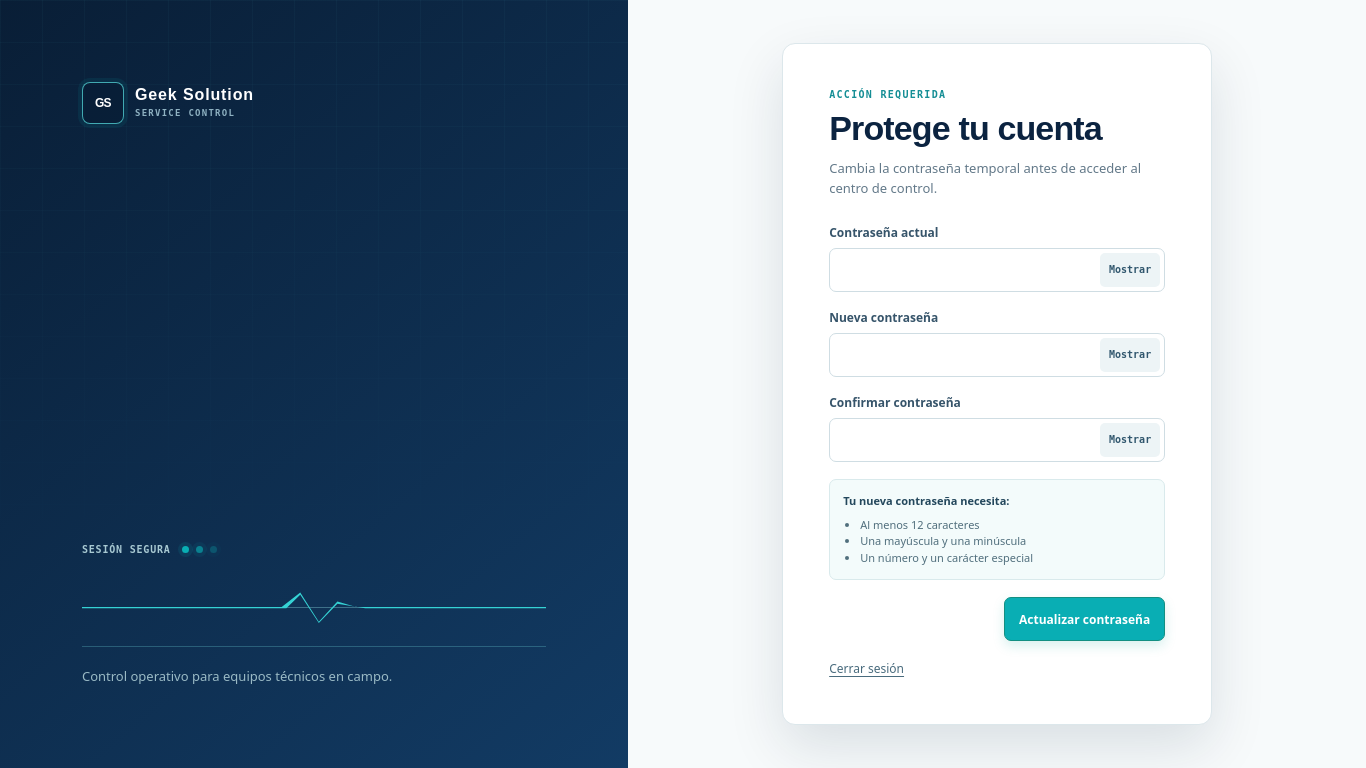
Scenario: páginas de autenticación › traduce PASSWORD_TOO_SHORT al mensaje de política correspondiente
This screenshot has width=1366, height=768.
Type "Actual123!xxx" into the password field labelled "Contraseña actual".
click(997, 270); type("Actual123!xxx")  # box [829,248,1165,292]
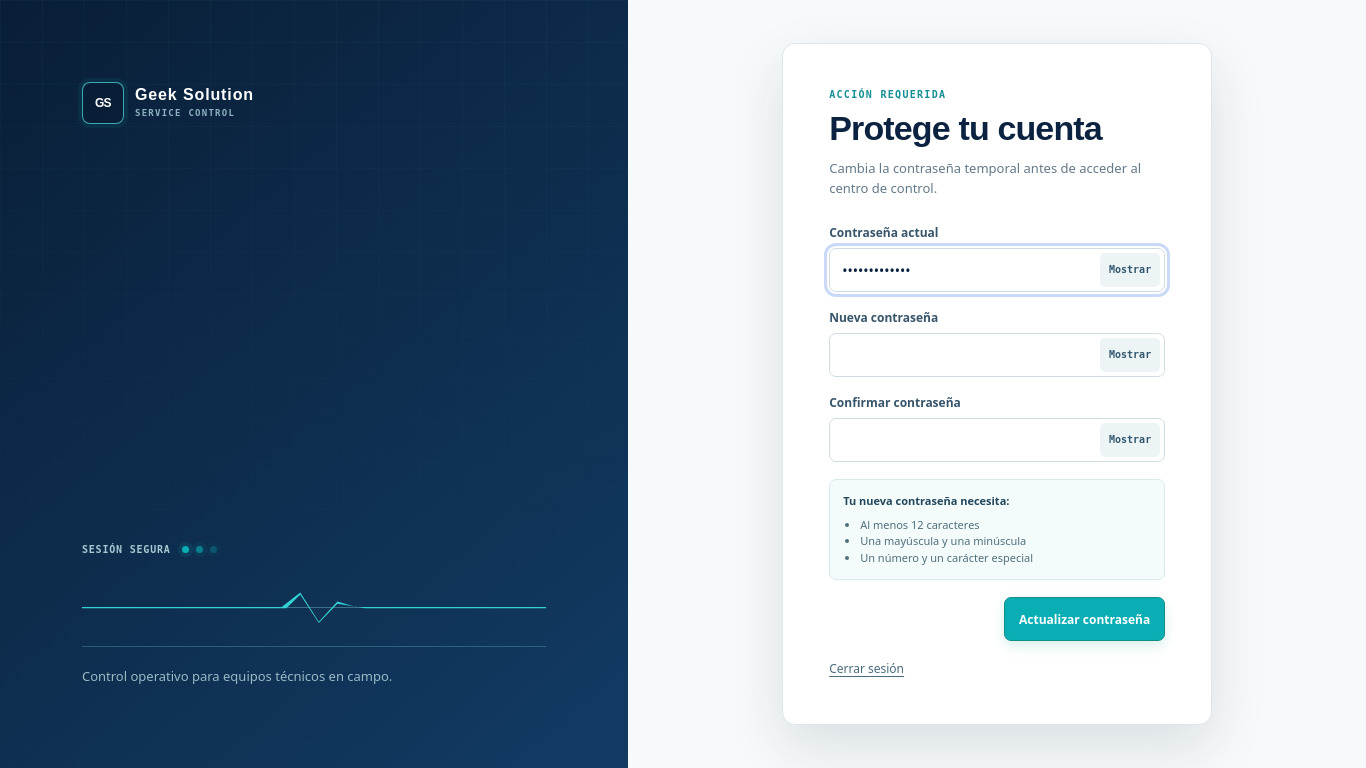
Type "Nueva123!xxxx" into the password field labelled "Nueva contraseña".
click(997, 355); type("Nueva123!xxxx")  # box [829,333,1165,377]
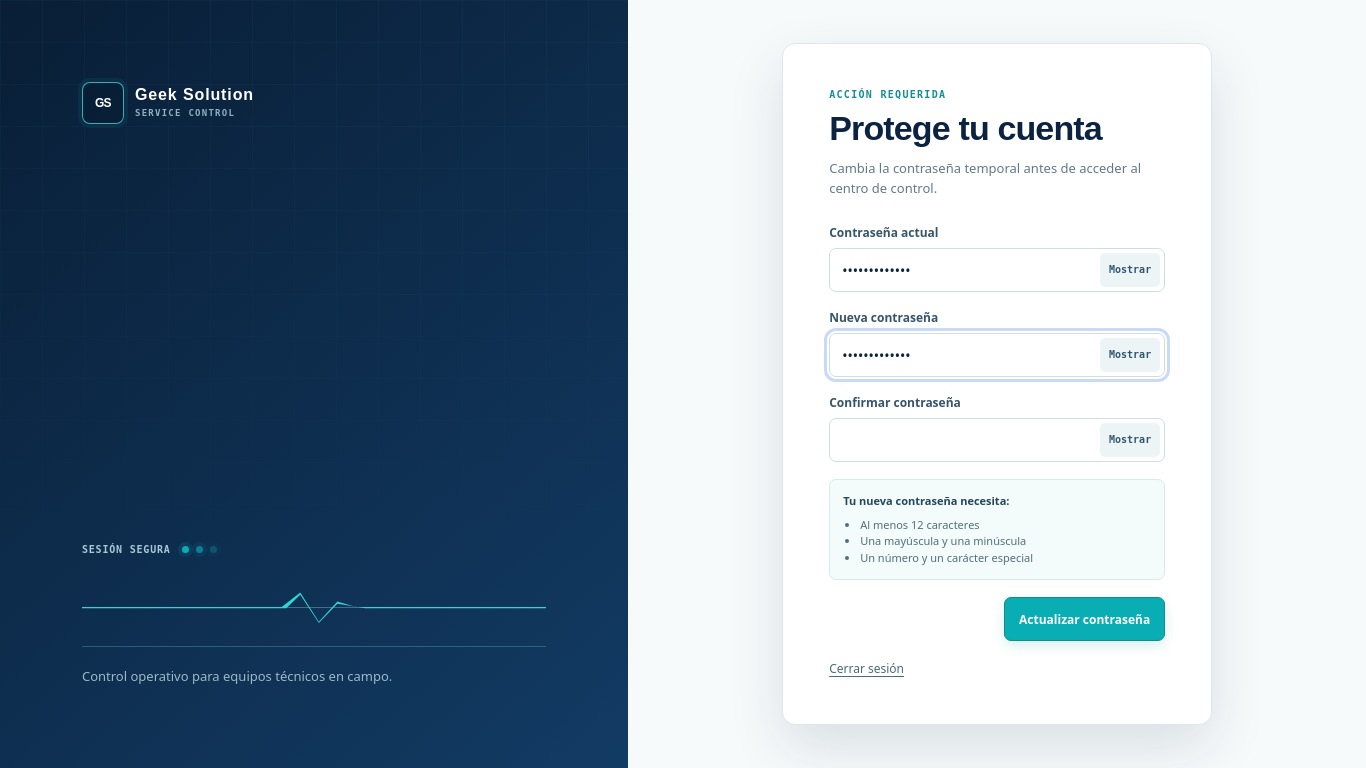
Type "Nueva123!xxxx" into the password field labelled "Confirmar contraseña".
click(997, 440); type("Nueva123!xxxx")  # box [829,418,1165,462]
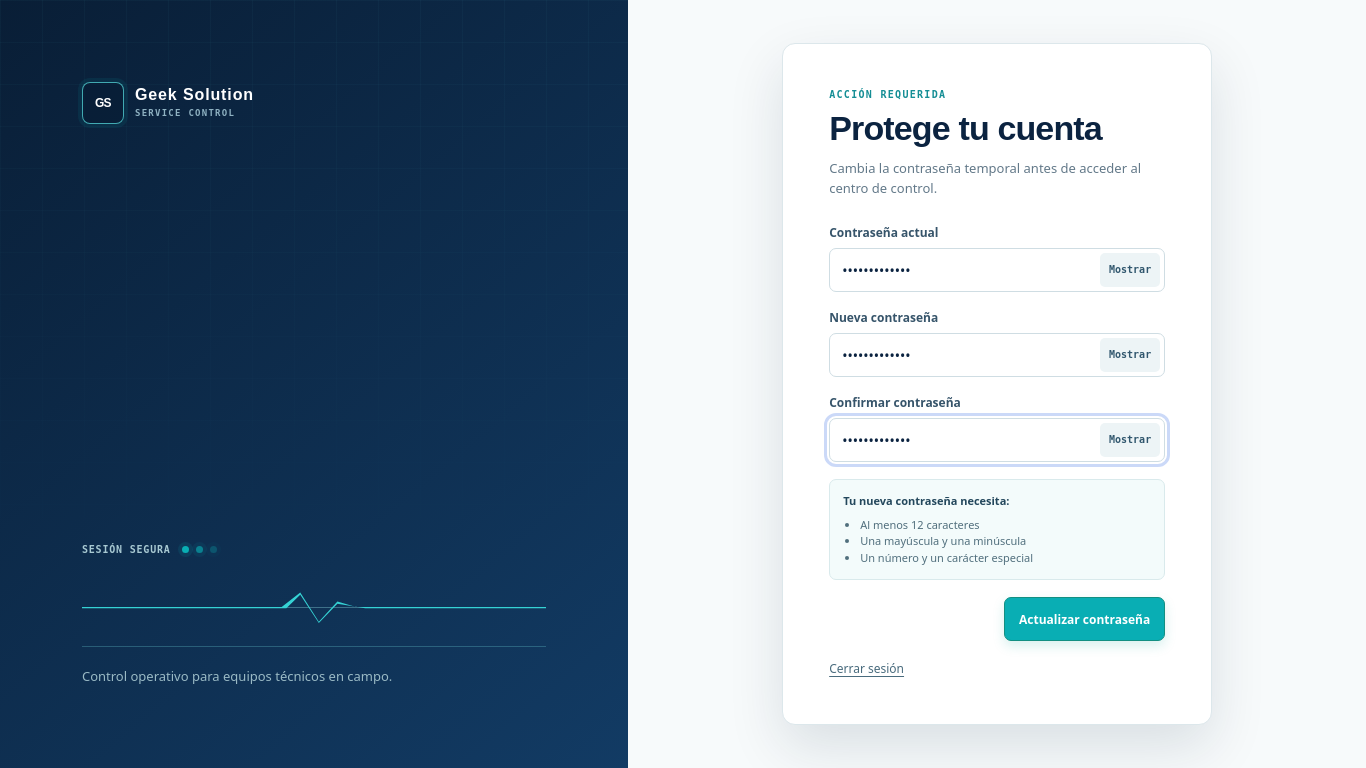
Click the button "Actualizar contraseña".
click(1085, 619)  # box [1004,597,1165,641]
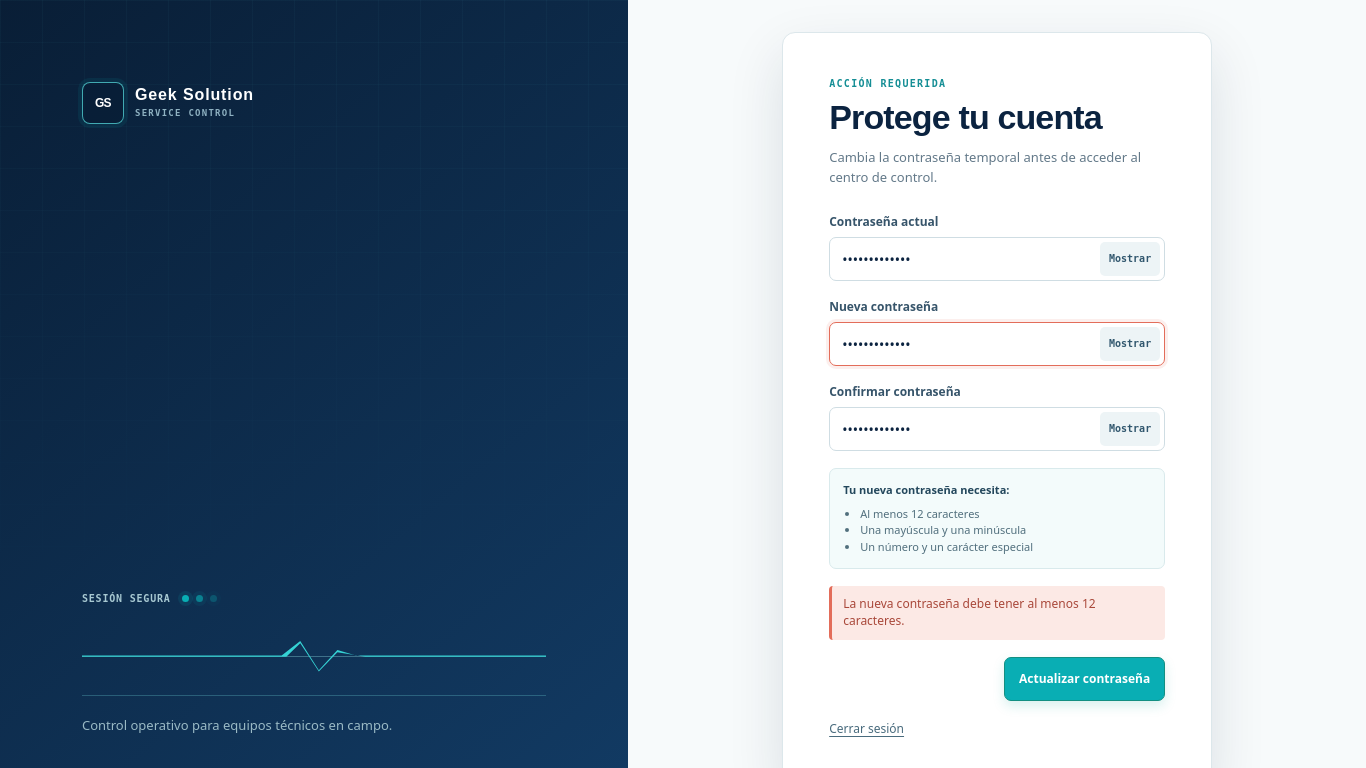
Check: the message reads "La nueva contraseña debe tener al menos 12 caracteres.", box [843,595,1096,629]
